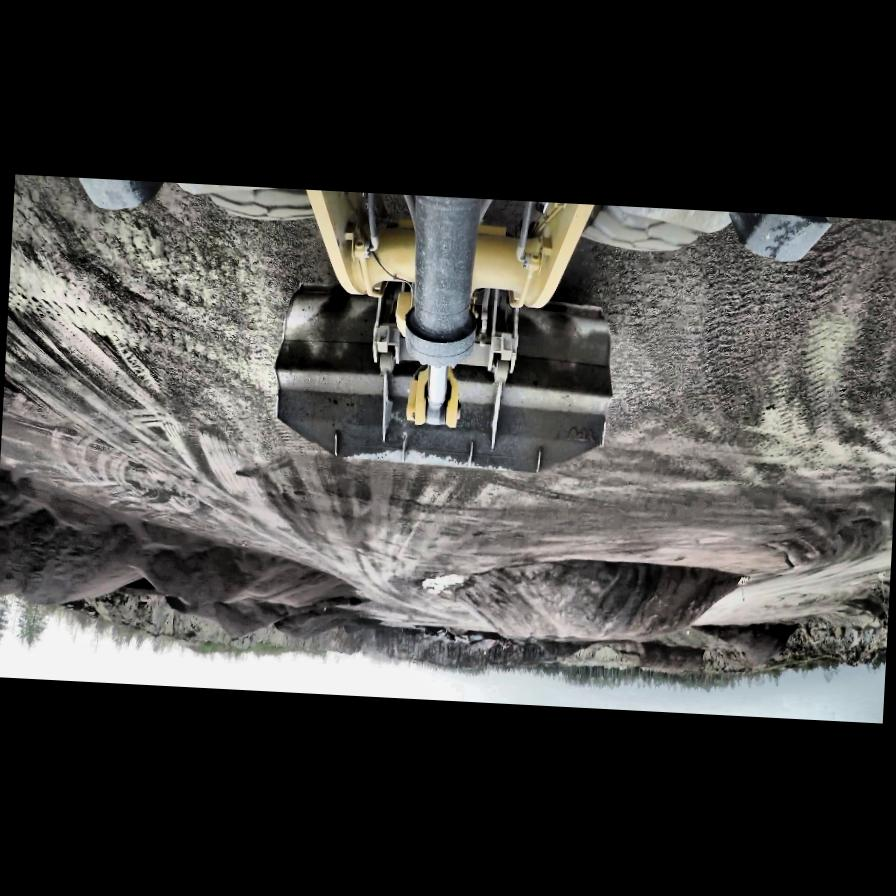anchor: (404, 362, 460, 428)
pile of gravel: (0, 457, 366, 649), (432, 548, 744, 652), (134, 531, 334, 619), (172, 585, 352, 646), (691, 618, 795, 670), (260, 566, 356, 612), (278, 603, 371, 643), (530, 638, 590, 660), (342, 616, 383, 632)
